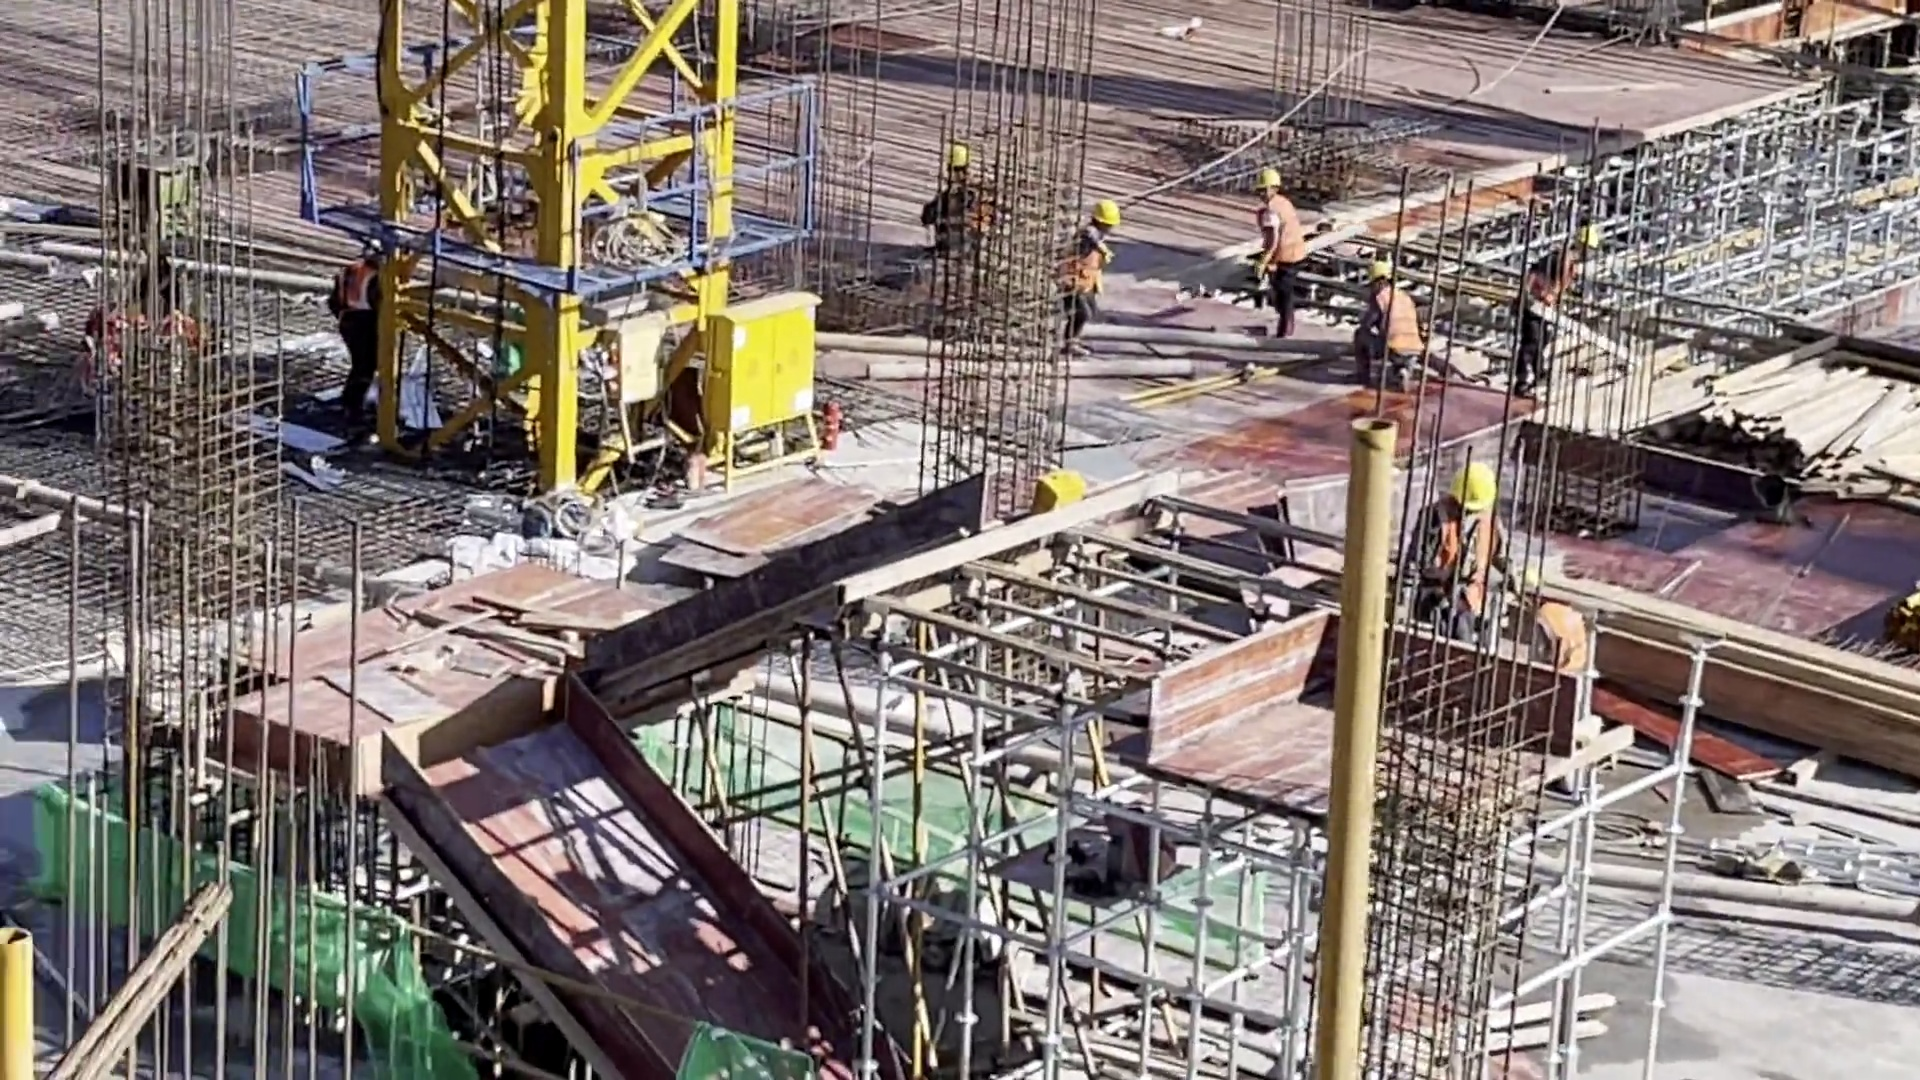helmet: (1453, 461, 1497, 511), (1092, 201, 1119, 228), (1254, 167, 1281, 188), (947, 146, 969, 170)
person: (1417, 458, 1513, 645), (331, 238, 382, 429), (1254, 168, 1301, 345), (1066, 201, 1117, 357), (1361, 266, 1417, 387)
vest: (1429, 508, 1500, 588), (1374, 285, 1425, 357), (1261, 199, 1300, 272), (1525, 268, 1565, 320), (1071, 238, 1108, 292), (339, 261, 375, 316)
